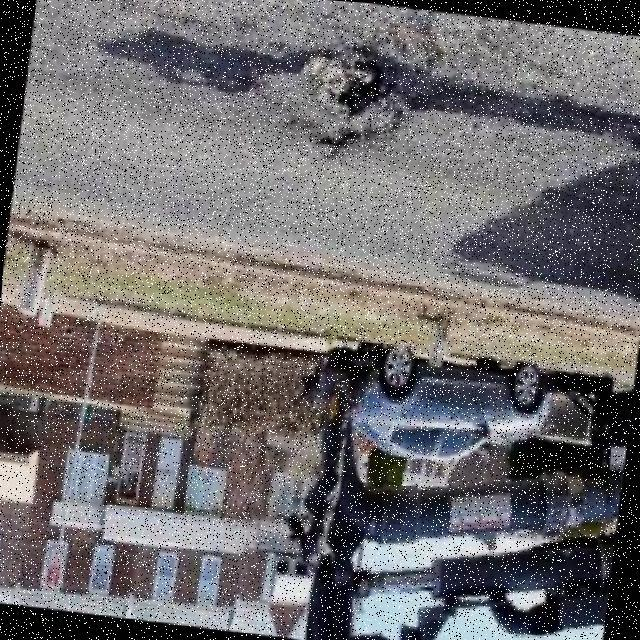Pothole: (258, 10, 447, 149)
